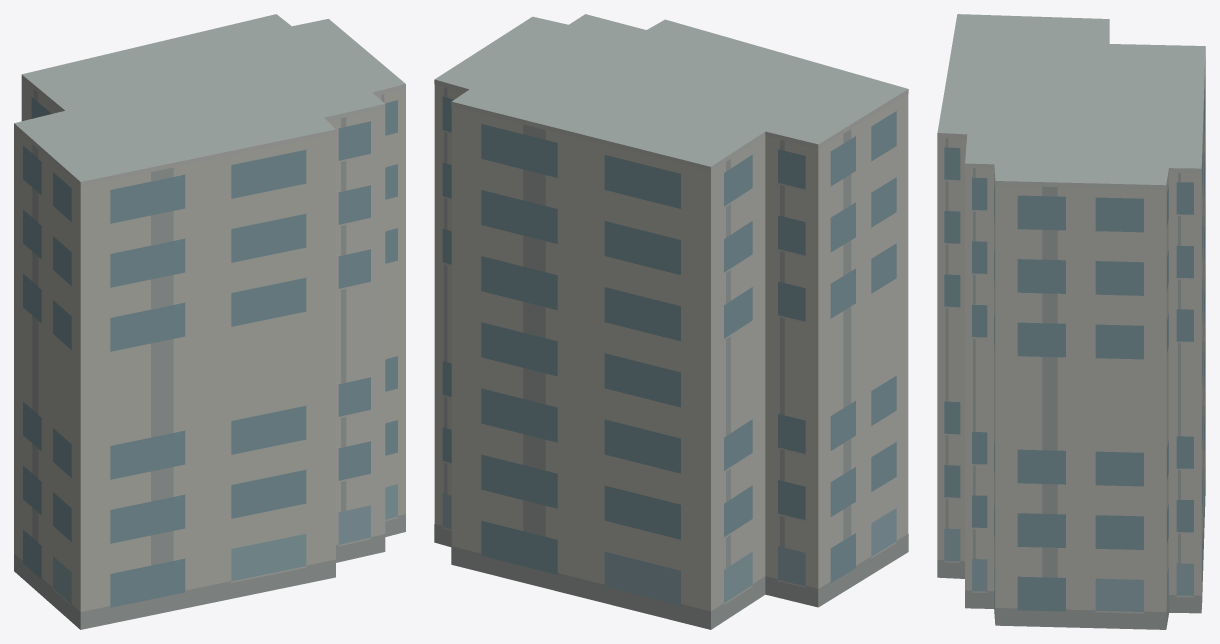
File: survey-upis-32802482.glb
3 views of the same model, side by side, from view 1: azimuth 30°, elevation 25°; view 2: azimuth 150°, elevation 25°; view 3: azimuth 270°, elevation 25° (orthographic). The views are drawn at different scales.
Parts seen in each view (by area): view 1: survey-upis-32802482.tmp; view 2: survey-upis-32802482.tmp; view 3: survey-upis-32802482.tmp.
Part boxes in pixels (<box>): survey-upis-32802482.tmp: <box>14,14,405,629</box>; survey-upis-32802482.tmp: <box>434,14,908,629</box>; survey-upis-32802482.tmp: <box>937,14,1205,629</box>.
Size of the model in its own units: 19.24 by 23.3 by 12.74.
